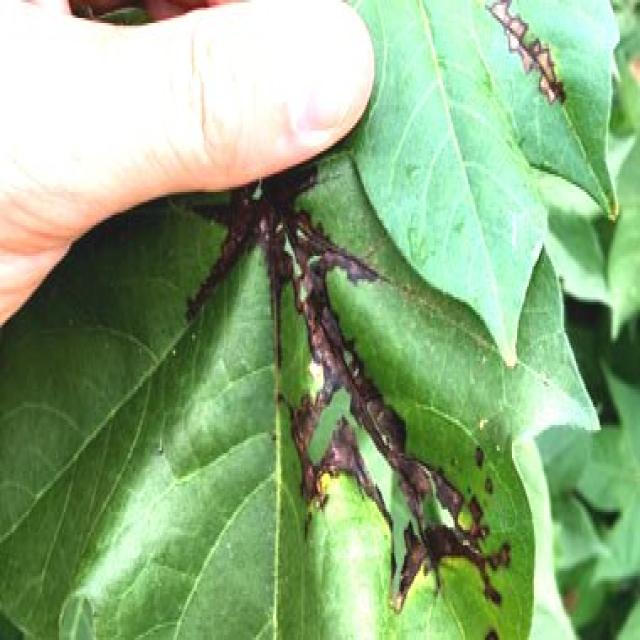Bacterial Blight: (200, 202, 511, 608)
